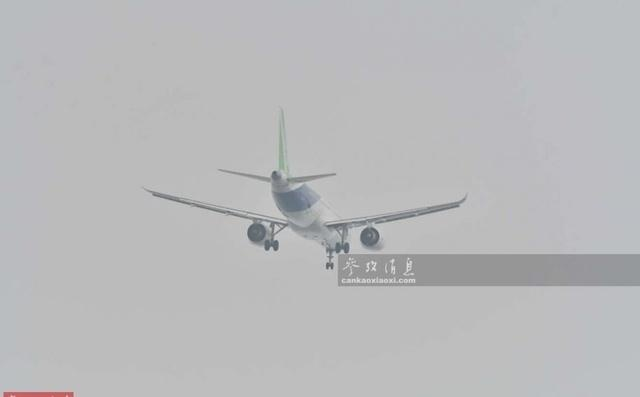airplane: (153, 106, 470, 261)
